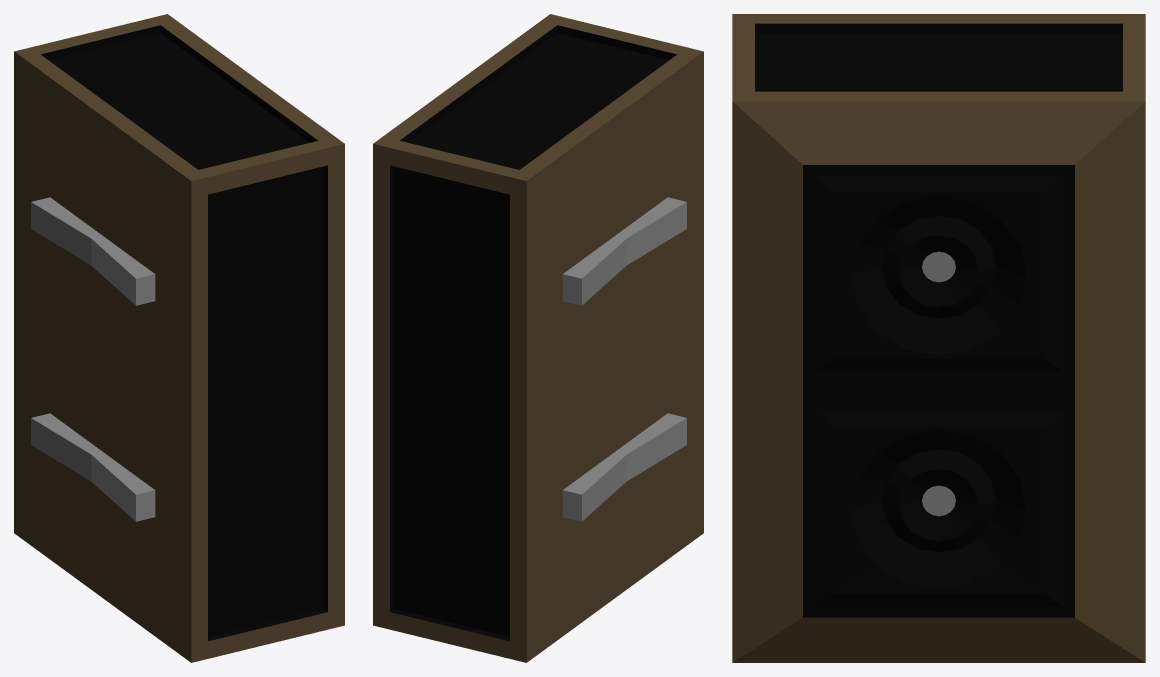
The model's file is churchSpeaker.fbx.
3 renders of one model, left to right at view 1: azimuth 30°, elevation 25°; view 2: azimuth 150°, elevation 25°; view 3: azimuth 270°, elevation 25°, orthographic. The views are drawn at different scales.
Parts seen in each view (by area): view 1: Speaker; view 2: Speaker; view 3: Speaker.
Boxes of the visible parts, x1=… form: Speaker: x1=14, y1=14, x2=344, y2=662; Speaker: x1=373, y1=14, x2=703, y2=662; Speaker: x1=732, y1=14, x2=1145, y2=662.
Size of the model in its own units: 251 by 600 by 400.
